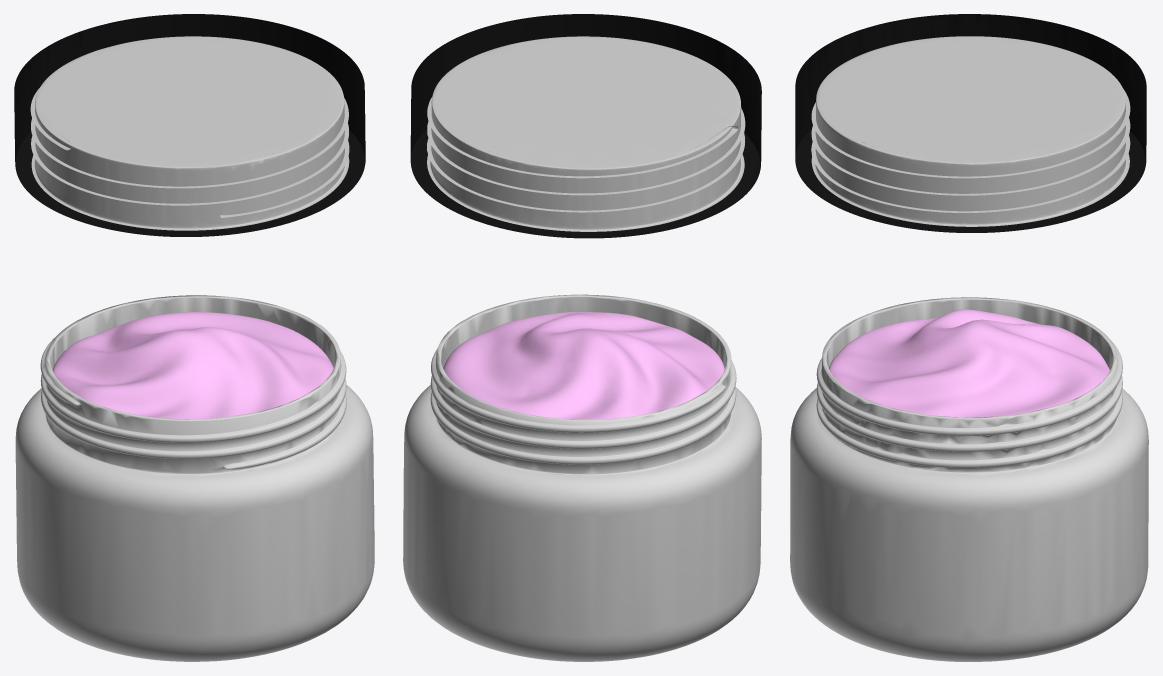
The model's file is placeholder-concentrate-jar-optimized.glb.
3 renders of one model, left to right at view 1: azimuth 30°, elevation 25°; view 2: azimuth 150°, elevation 25°; view 3: azimuth 270°, elevation 25°, orthographic.
Parts seen in each view (by area): view 1: Circle_006, Circle_013, Circle_014, Circle_012; view 2: Circle_006, Circle_013, Circle_014, Circle_012; view 3: Circle_006, Circle_013, Circle_014, Circle_012.
Boxes of the visible parts, x1,y1,x2,y2 form: Circle_006: [15, 295, 374, 661]; Circle_013: [30, 36, 349, 230]; Circle_014: [52, 312, 333, 419]; Circle_012: [14, 14, 365, 236]; Circle_006: [403, 294, 761, 661]; Circle_013: [427, 36, 745, 231]; Circle_014: [443, 311, 724, 419]; Circle_012: [410, 14, 761, 238]; Circle_006: [790, 297, 1148, 661]; Circle_013: [811, 36, 1130, 226]; Circle_014: [829, 309, 1109, 417]; Circle_012: [795, 14, 1146, 232].
Bounding box in the file's own units: 117 × 184 × 116.
